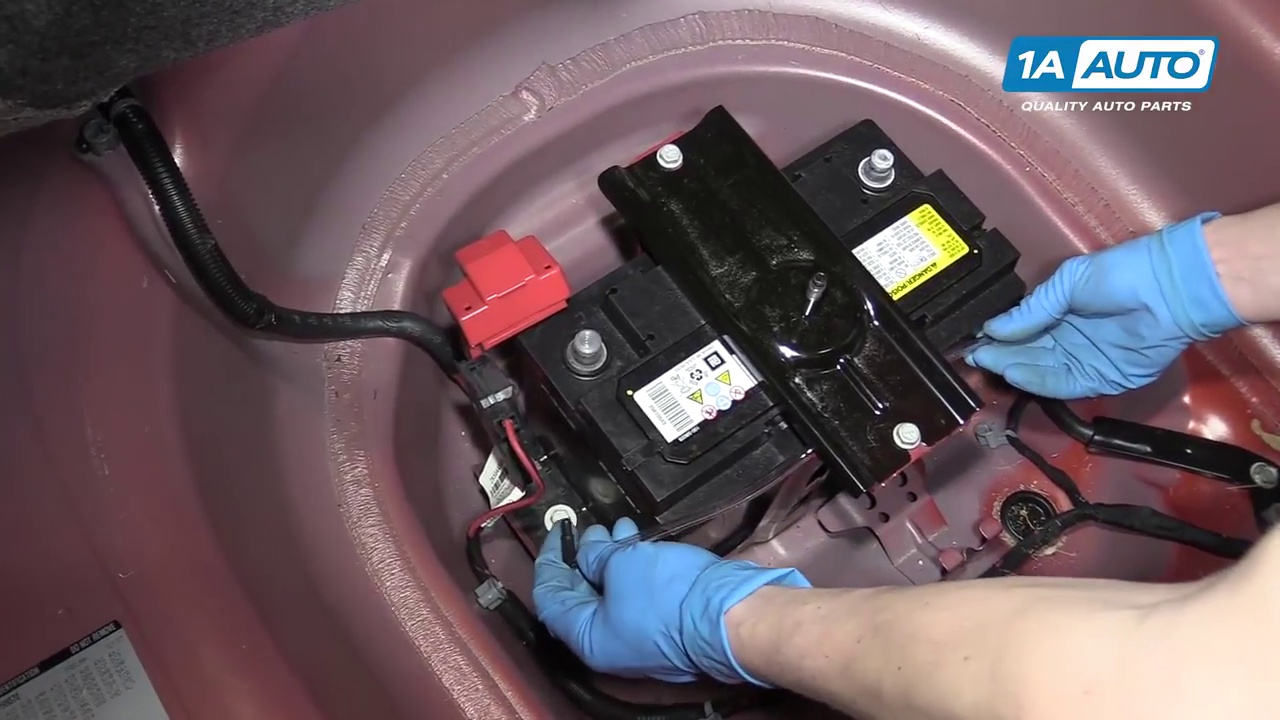battery: (509, 117, 1022, 525)
neg_disconnected: (839, 132, 913, 216)
pos_disconnected: (429, 248, 616, 385)
